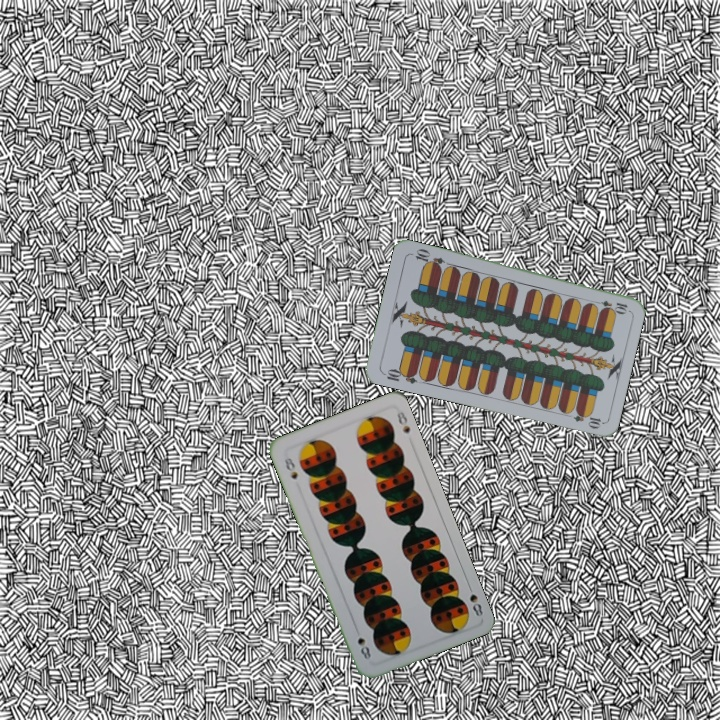E10: (379, 365, 419, 386), (589, 296, 630, 315)
S8: (464, 580, 487, 619), (280, 454, 300, 482)
